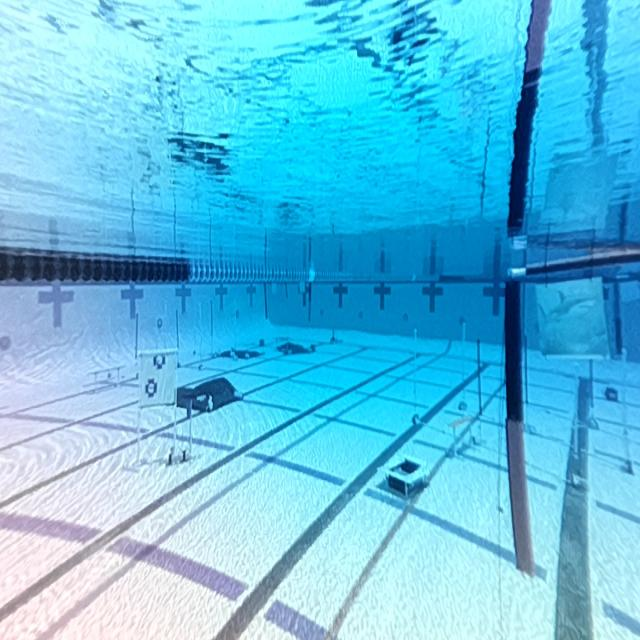round_nose: (535, 279, 604, 359)
